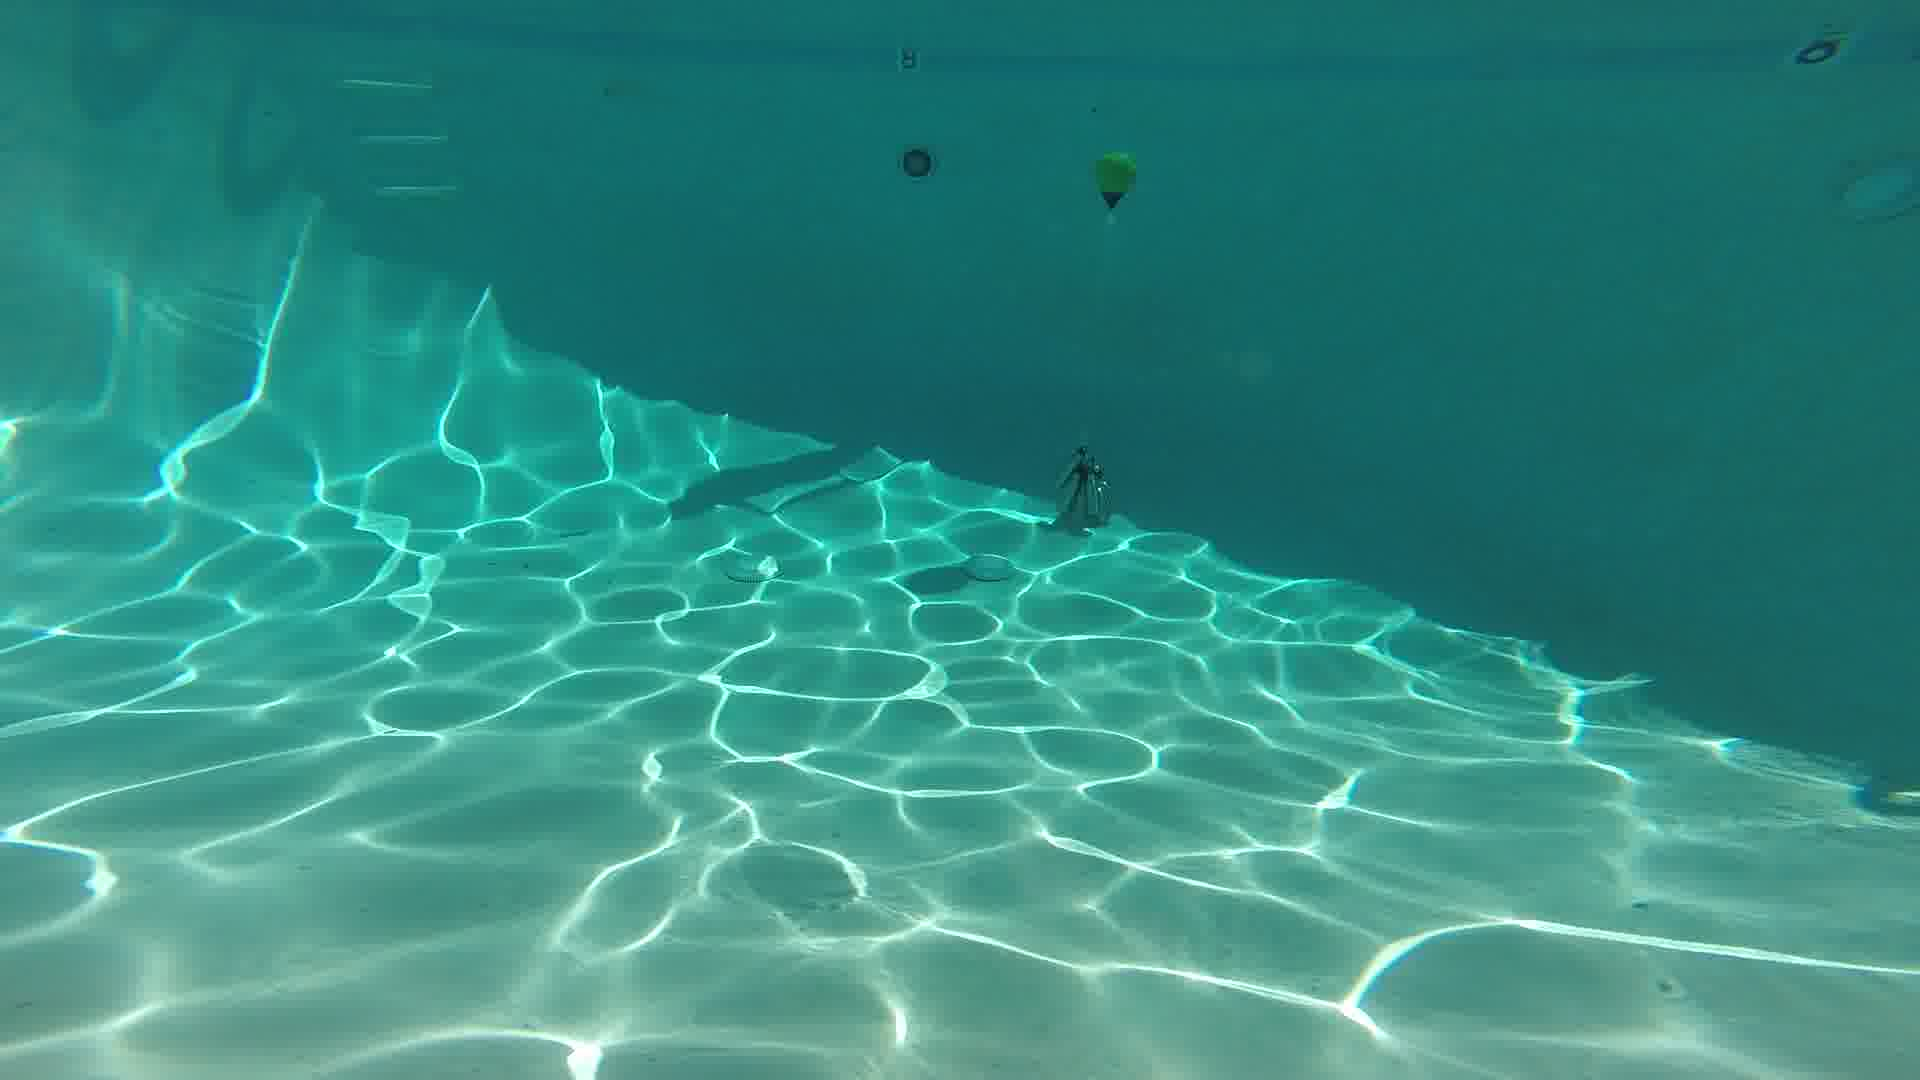yellow_buoy: (1096, 154, 1135, 212)
